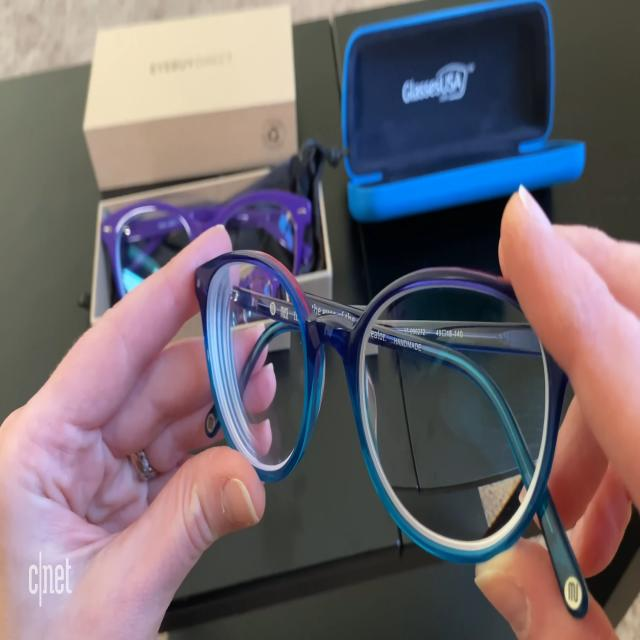glasses: (191, 247, 567, 571), (94, 161, 324, 305)
